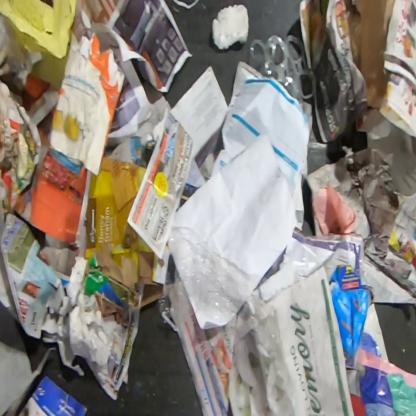cardboard: (84, 156, 171, 316), (344, 0, 395, 109), (328, 265, 375, 358)
soft_plastic: (157, 226, 276, 354), (248, 34, 318, 101)
